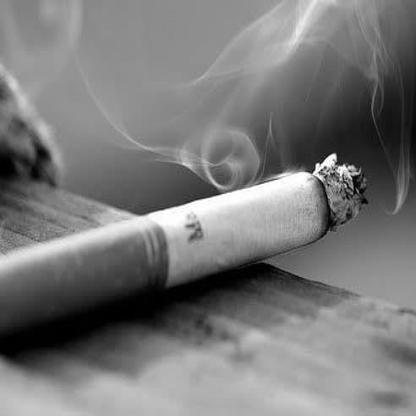trash: (0, 150, 375, 350)
